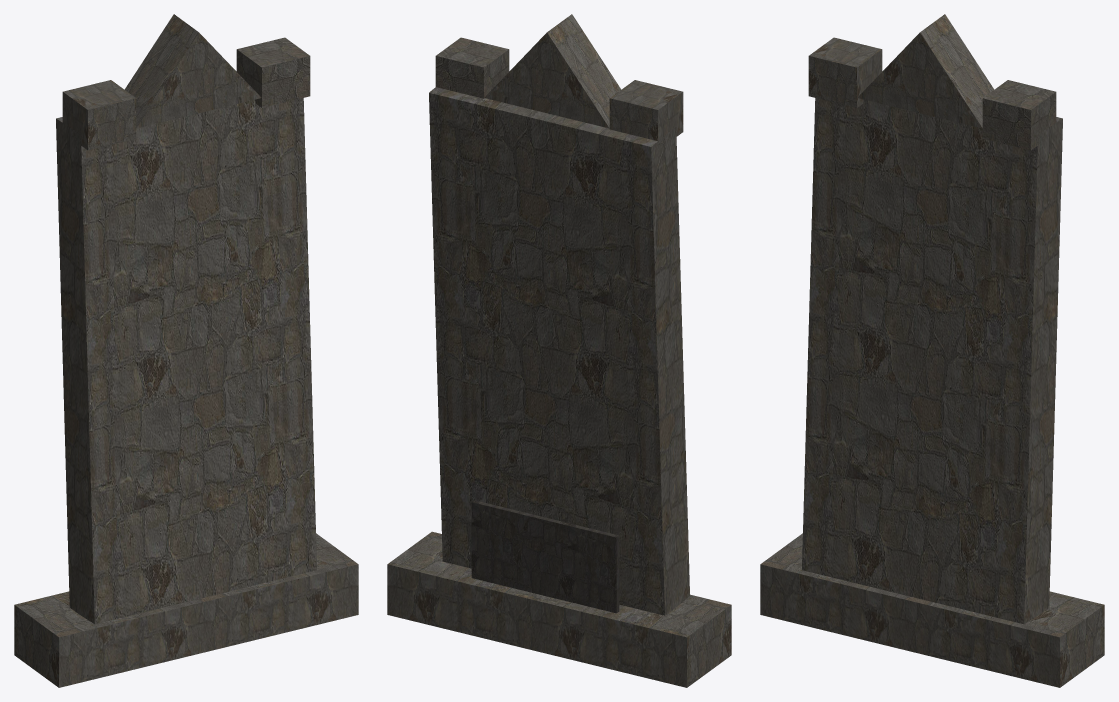
File: prop_headstone_b.glb
3 views of the same model, side by side, from view 1: azimuth 30°, elevation 25°; view 2: azimuth 150°, elevation 25°; view 3: azimuth 330°, elevation 25° (orthographic).
Parts seen in each view (by area): view 1: prop_headstone_b; view 2: prop_headstone_b; view 3: prop_headstone_b.
Part boxes in pixels (x1,y1,x2,y2): prop_headstone_b: (14, 14, 358, 687); prop_headstone_b: (387, 14, 731, 687); prop_headstone_b: (760, 14, 1104, 687).
Bounding box in the file's own units: 0.62 × 1.21 × 0.16.
Materials: 2 (2 with a texture image).
